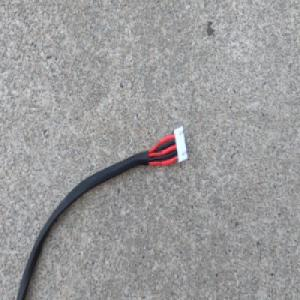Wire: (14, 122, 189, 300)
